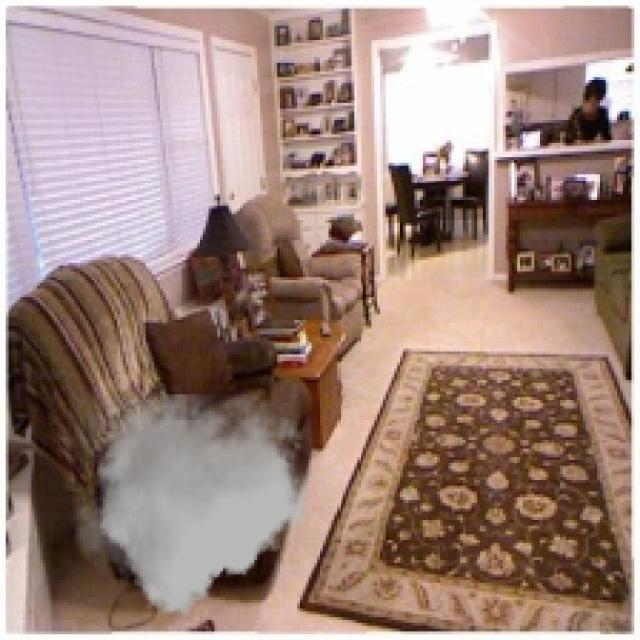Smoke: (68, 394, 312, 614)
